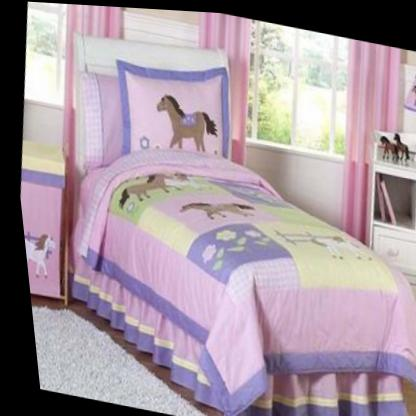Bed: (26, 19, 416, 416)
